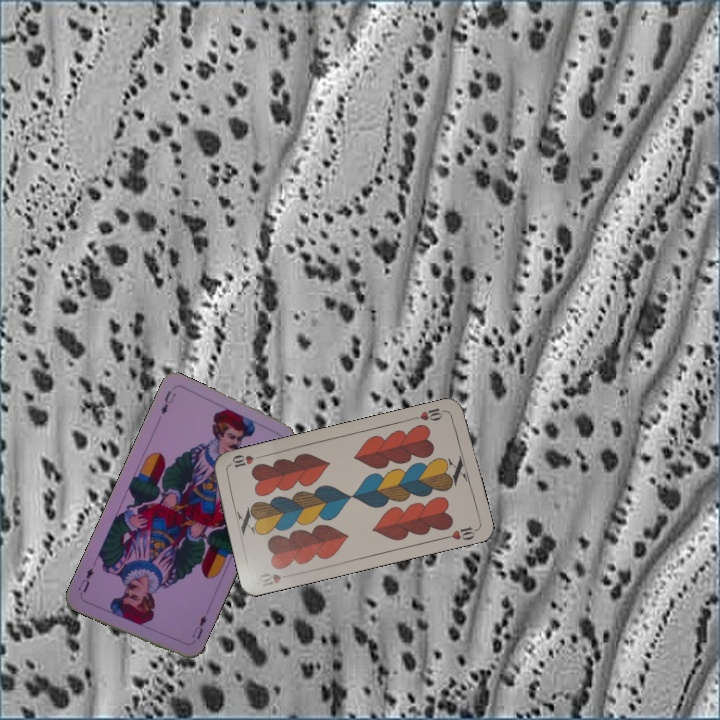EU: (157, 386, 179, 417), (188, 611, 209, 642)
H10: (255, 569, 295, 590), (409, 404, 449, 423)
